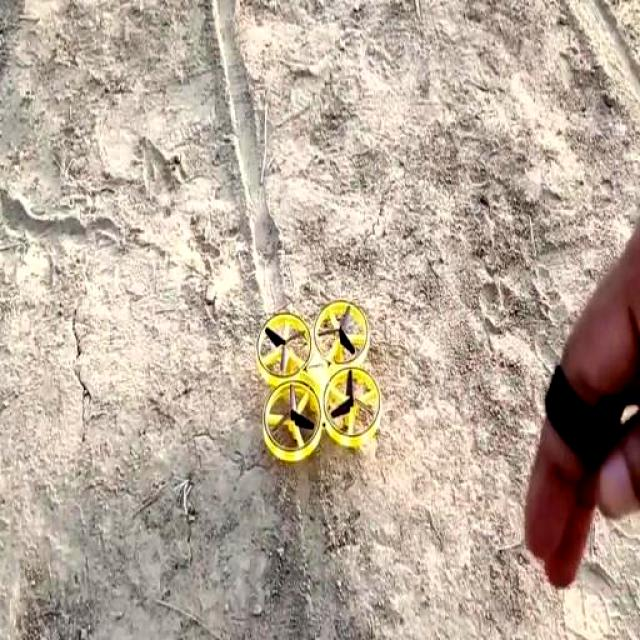bird: (244, 291, 390, 476)
